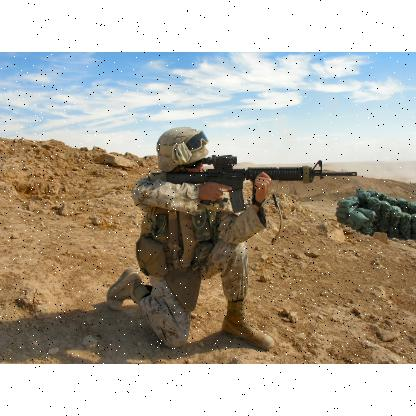gun: (152, 145, 346, 216)
